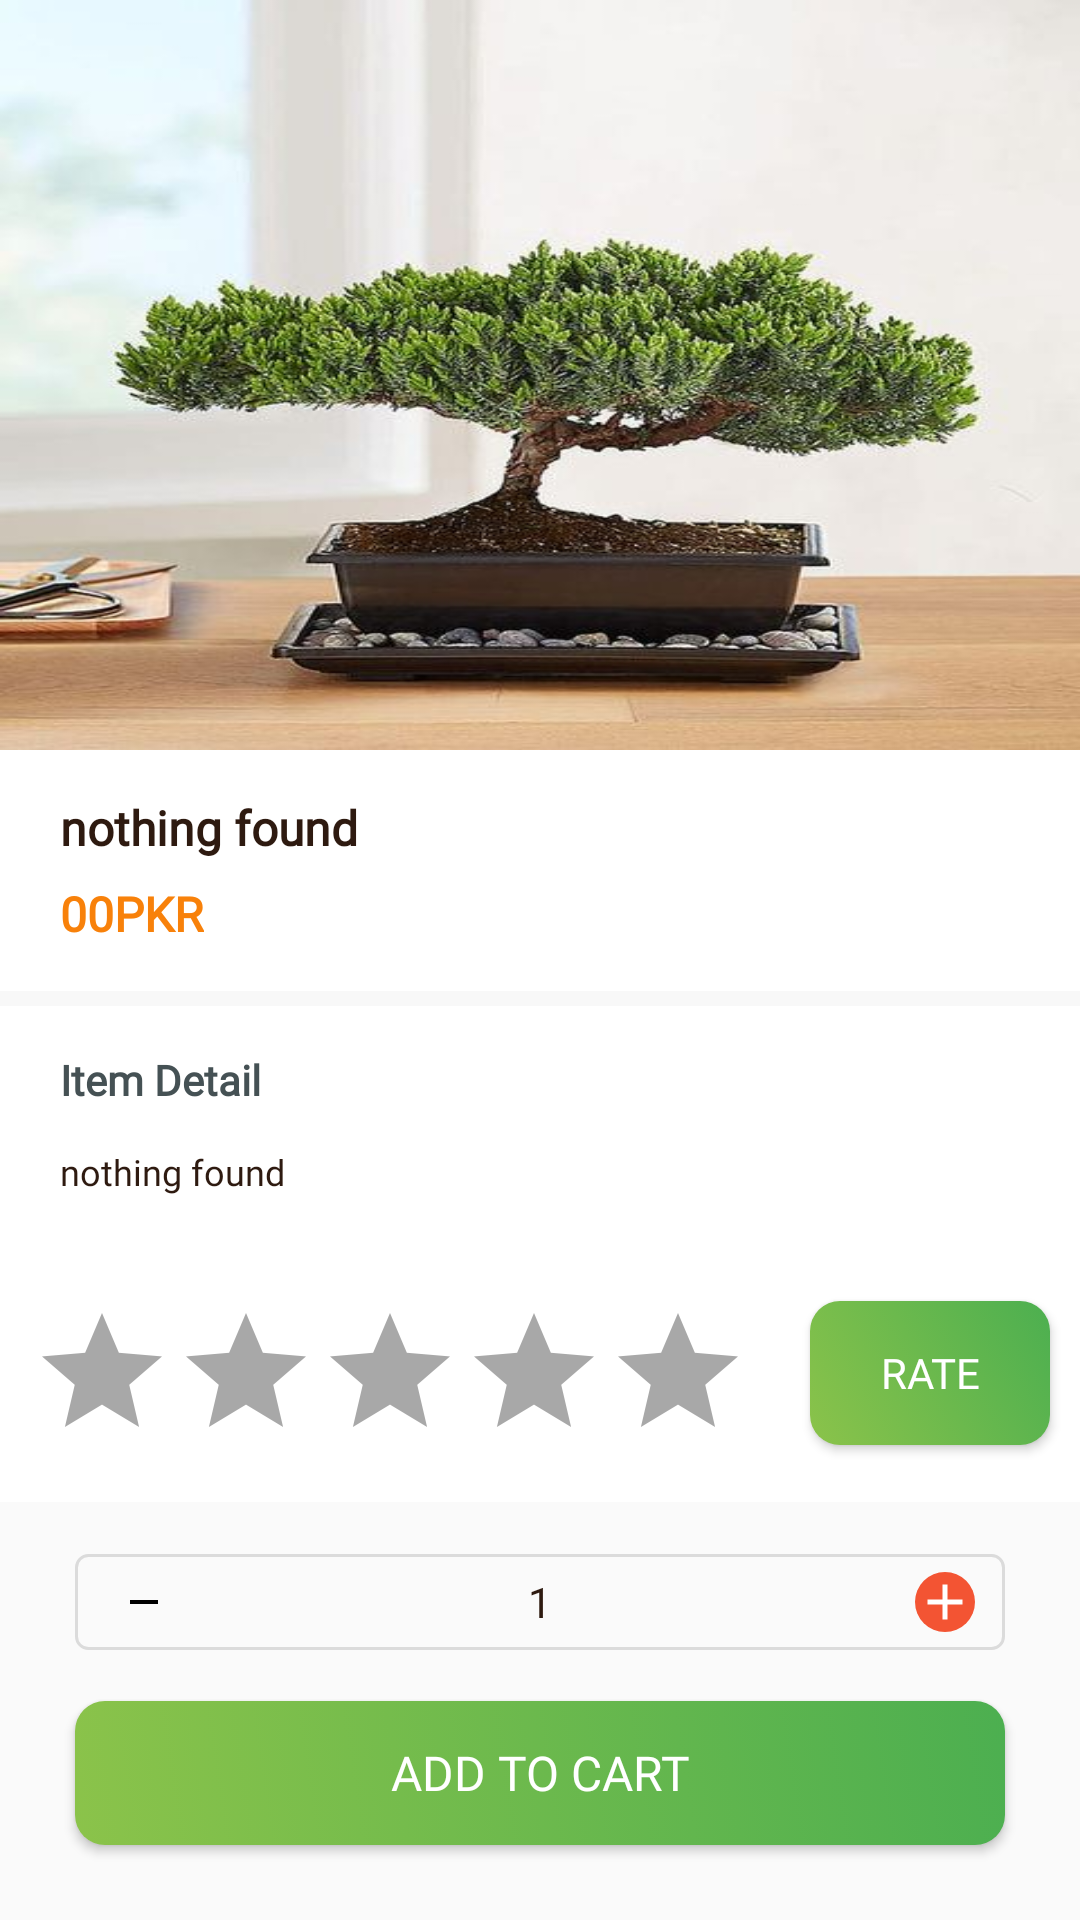

Locate icon controls on the screen. Image size 1080px×1920px, boxes as rect(x1, y1, x2, y2).
plus carts: rect(915, 1572, 975, 1632)
